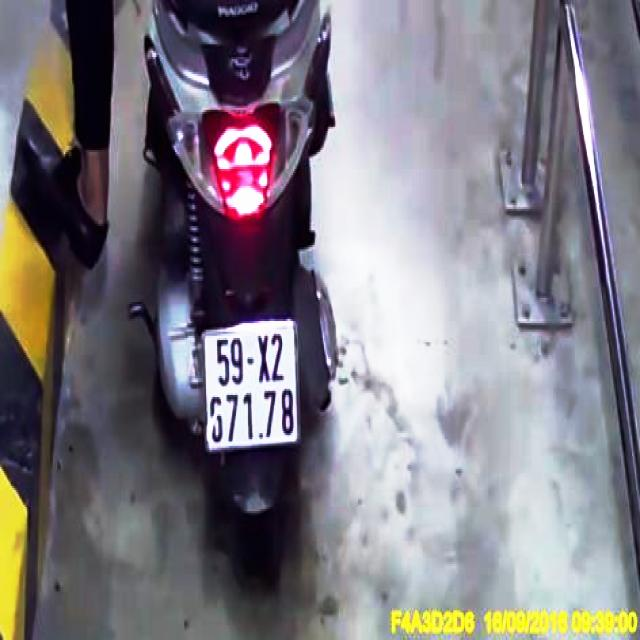license_plate: (203, 323, 302, 456)
